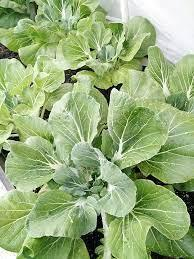Healthy-Pechay: (2, 3, 191, 256), (4, 139, 60, 193)
